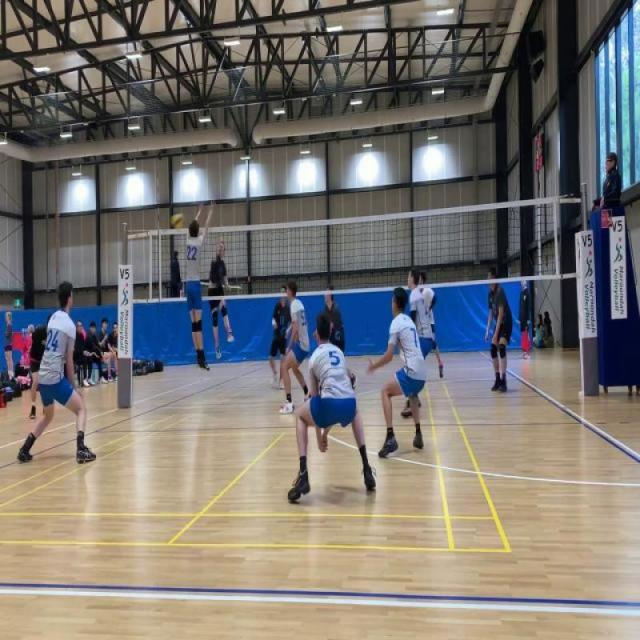volleyball: (170, 211, 184, 231), (306, 240, 310, 248)
